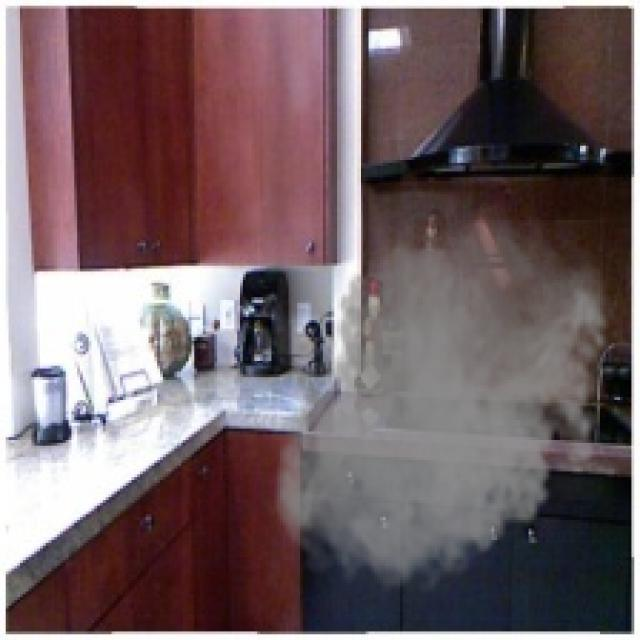Smoke: (269, 188, 620, 600)
